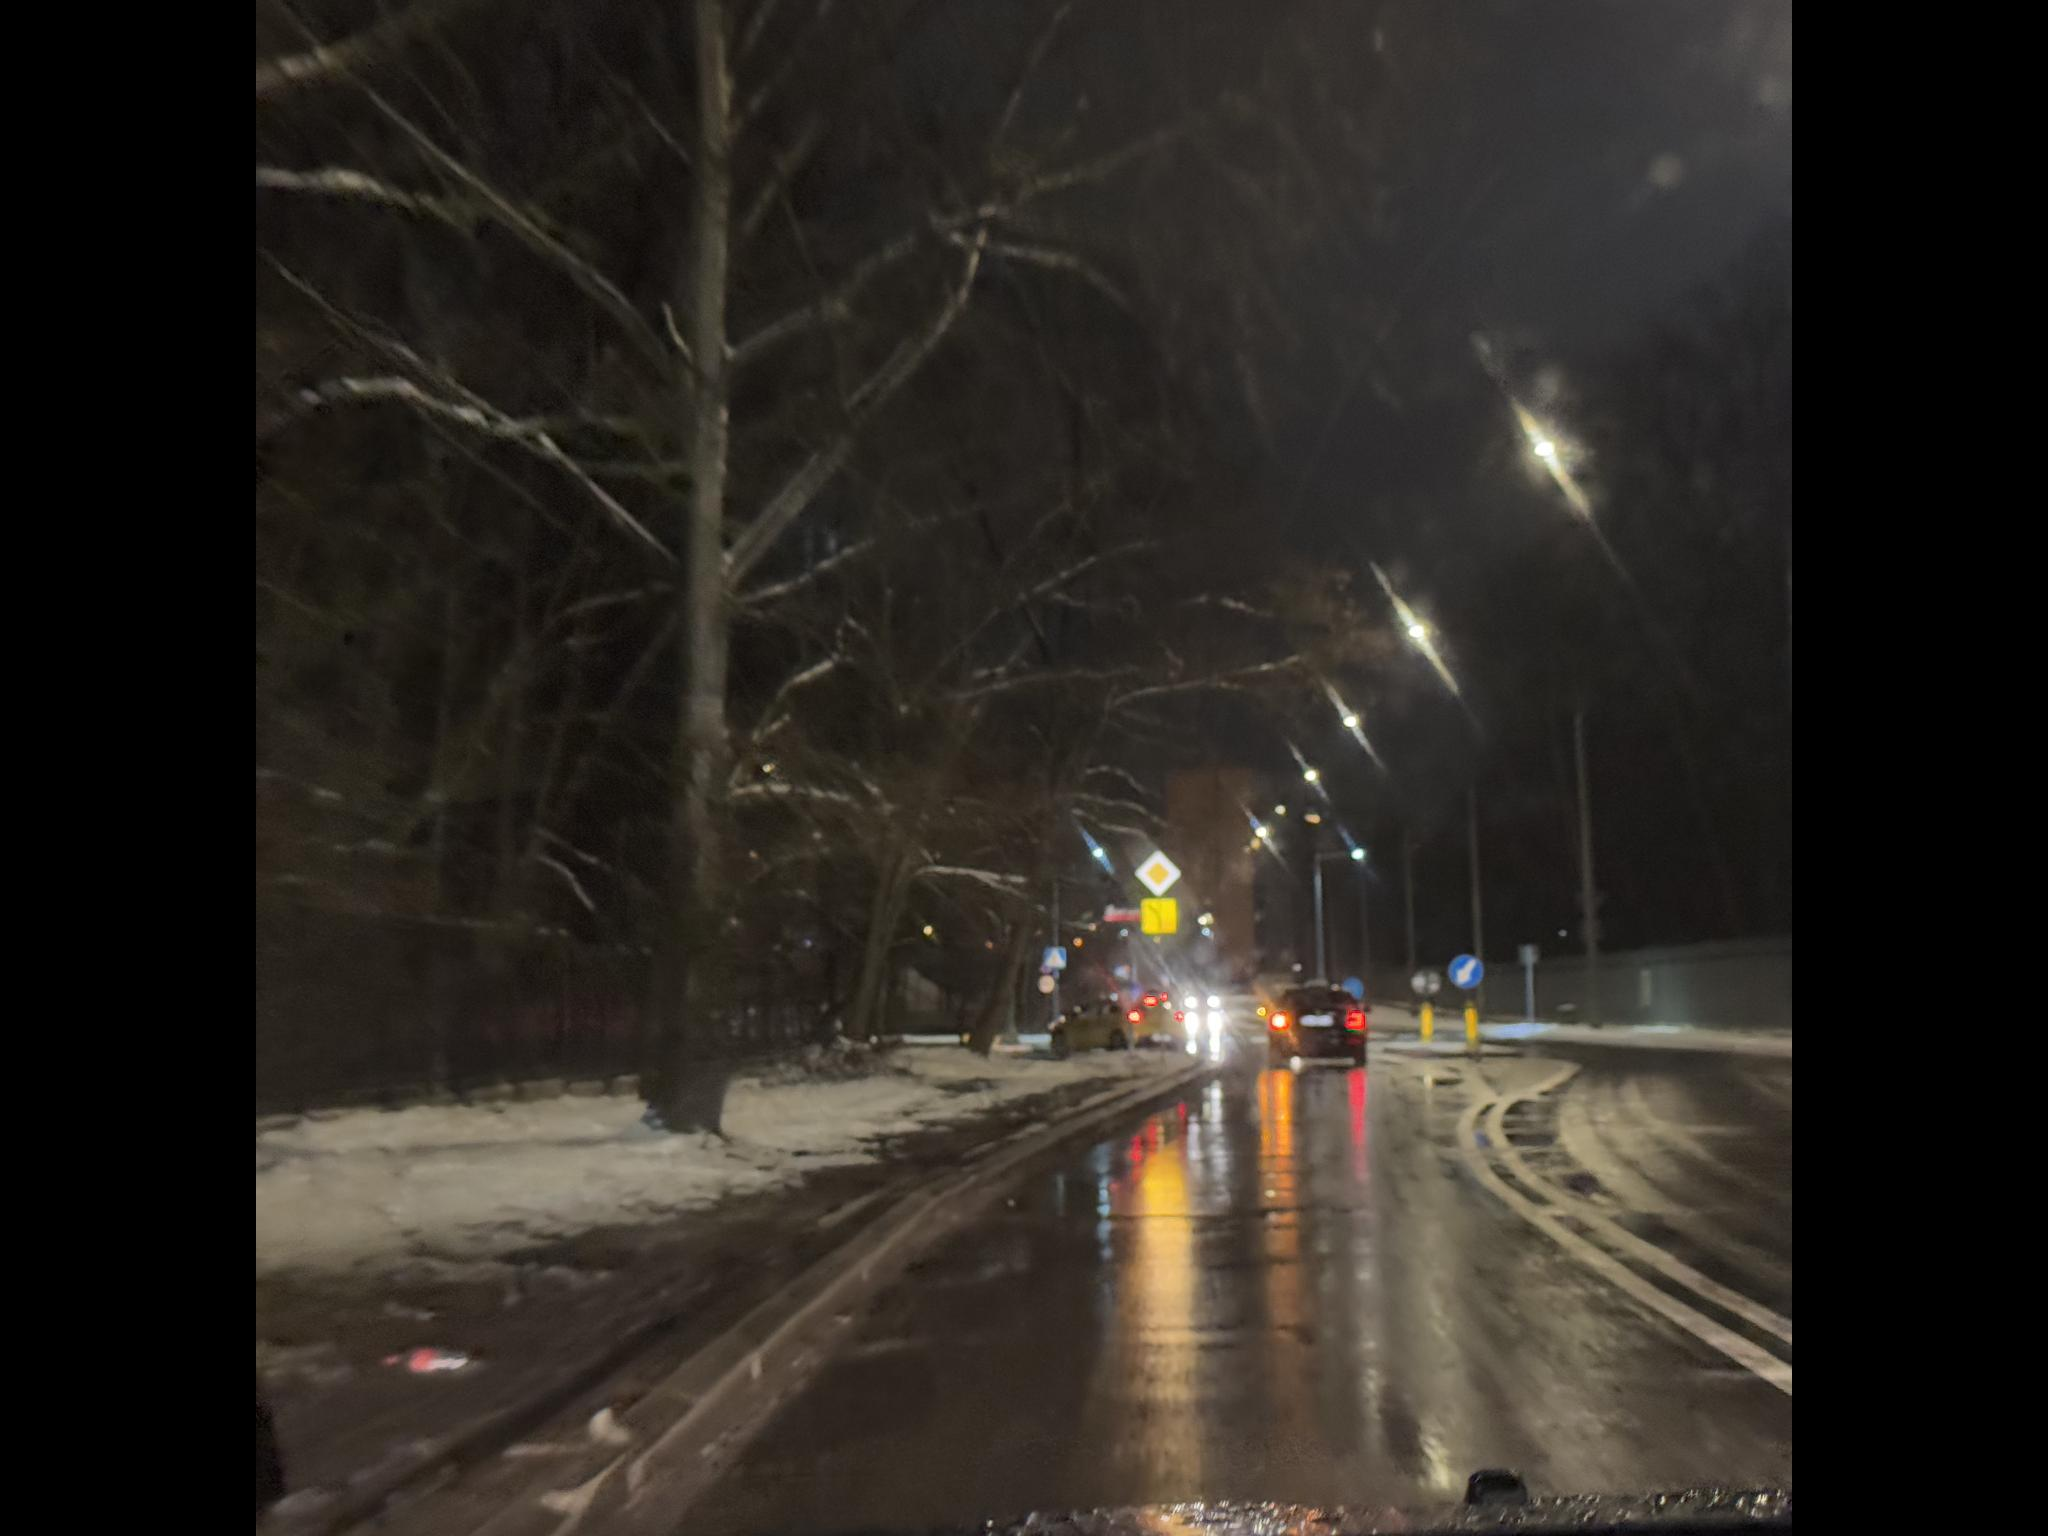information: (1361, 353, 1408, 402), (1459, 470, 1480, 494)
mandatory: (1464, 52, 1500, 89), (1490, 173, 1509, 194)
other: (1408, 358, 1445, 395)
